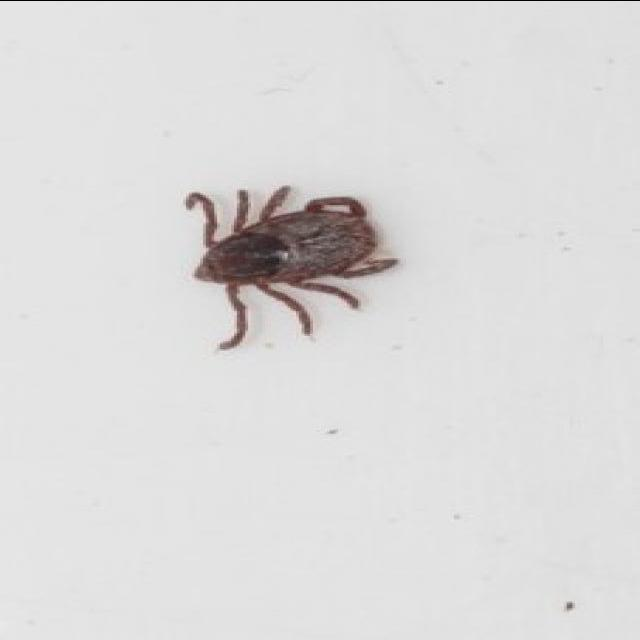Rhipicephalus Sanguineus-F: (183, 186, 403, 352)
